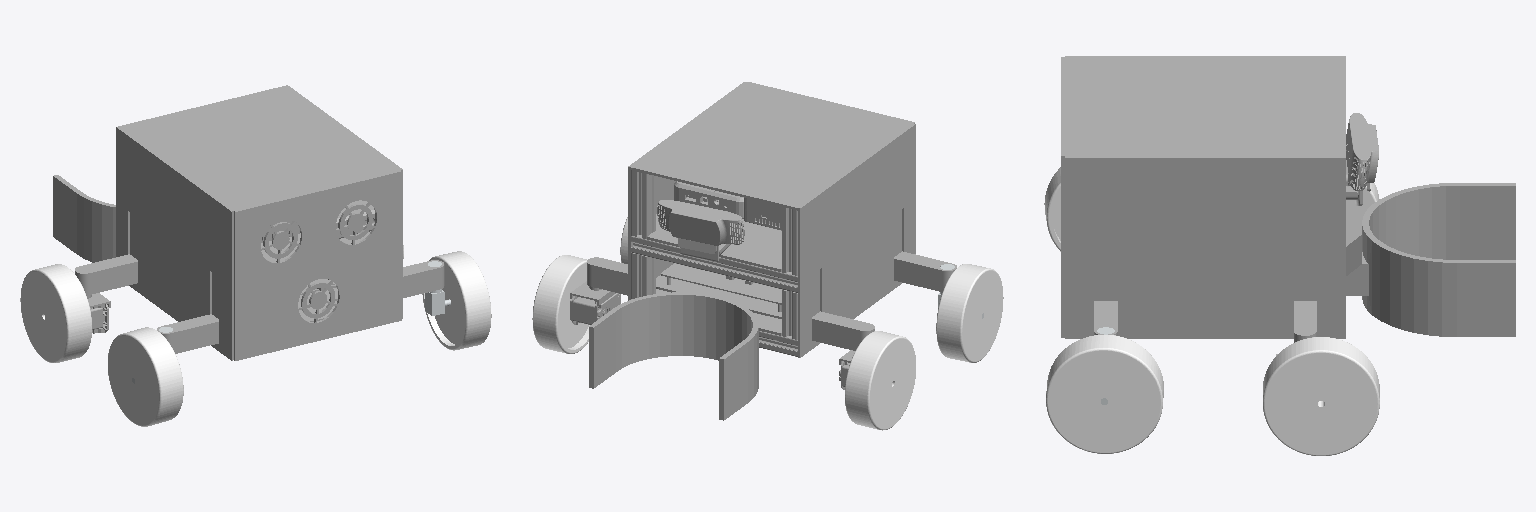
The robot description file, URDF, robot "new_model":
<?xml version="1.0" encoding="utf-8"?>
<!-- This URDF was automatically created by SolidWorks to URDF Exporter! Originally created by [author] ([email redacted]) 
     Commit Version: 1.5.1-0-g916b5db  Build Version: 1.5.7152.31018
     For more information, please see http://wiki.ros.org/sw_urdf_exporter -->
<robot
  name="new_model">
  <link
    name="base_link">
    <inertial>
      <origin
        xyz="-0.00122507959535201 -0.0132142522574721 0.158187880538494"
        rpy="0 0 0" />
      <mass
        value="5.04599768700966" />
      <inertia
        ixx="0.0199585188421208"
        ixy="8.49633695615799E-07"
        ixz="3.57924483879844E-07"
        iyy="0.0133780567917246"
        iyz="-8.69413175238509E-06"
        izz="0.0204011323429144" />
    </inertial>
    <visual>
      <origin
        xyz="0 0 0"
        rpy="0 0 0" />
      <geometry>
        <mesh
          filename="package://new_model/meshes/base_link.STL" />
      </geometry>
      <material
        name="">
        <color
          rgba="0.752941176470588 0.752941176470588 0.752941176470588 1" />
      </material>
    </visual>
    <collision>
      <origin
        xyz="0 0 0"
        rpy="0 0 0" />
      <geometry>
        <mesh
          filename="package://new_model/meshes/base_link.STL" />
      </geometry>
    </collision>
  </link>
  <link
    name="RFS">
    <inertial>
      <origin
        xyz="0.13547 0.086849 0.092683"
        rpy="0 0 0" />
      <mass
        value="0.26437" />
      <inertia
        ixx="3.2075E-05"
        ixy="-1.5645E-07"
        ixz="1.6485E-08"
        iyy="6.2207E-05"
        iyz="-2.9641E-09"
        izz="6.2915E-05" />
    </inertial>
    <visual>
      <origin
        xyz="0 0 0"
        rpy="0 0 0" />
      <geometry>
        <mesh
          filename="package://new_model/meshes/RFS.STL" />
      </geometry>
      <material
        name="">
        <color
          rgba="0.75294 0.75294 0.75294 1" />
      </material>
    </visual>
    <collision>
      <origin
        xyz="0 0 0"
        rpy="0 0 0" />
      <geometry>
        <mesh
          filename="package://new_model/meshes/RFS.STL" />
      </geometry>
    </collision>
  </link>
  <joint
    name="right_front_suspension"
    type="prismatic">
    <origin
      xyz="0 0 0"
      rpy="0 0 0" />
    <parent
      link="base_link" />
    <child
      link="RFS" />
    <axis
      xyz="0 0 1" />
    <limit
      lower="0"
      upper="0"
      effort="0"
      velocity="0" />
  </joint>
  <link
    name="RFW">
    <inertial>
      <origin
        xyz="0.18943 0.1001 0.062199"
        rpy="0 0 0" />
      <mass
        value="0.19359" />
      <inertia
        ixx="0.00025308"
        ixy="-5.171E-21"
        ixz="2.2481E-36"
        iyy="0.00013682"
        iyz="-4.286E-37"
        izz="0.00013682" />
    </inertial>
    <visual>
      <origin
        xyz="0 0 0"
        rpy="0 0 0" />
      <geometry>
        <mesh
          filename="package://new_model/meshes/RFW.STL" />
      </geometry>
      <material
        name="">
        <color
          rgba="1 1 1 1" />
      </material>
    </visual>
    <collision>
      <origin
        xyz="0 0 0"
        rpy="0 0 0" />
      <geometry>
        <mesh
          filename="package://new_model/meshes/RFW.STL" />
      </geometry>
    </collision>
  </link>
  <joint
    name="right_front_wheel"
    type="continuous">
    <origin
      xyz="0 0 0"
      rpy="0 0 0" />
    <parent
      link="RFS" />
    <child
      link="RFW" />
    <axis
      xyz="1 0 0" />
    <limit
      effort="3.1"
      velocity="7" />
  </joint>
  <link
    name="LFS">
    <inertial>
      <origin
        xyz="-0.13547 0.086849 0.092691"
        rpy="0 0 0" />
      <mass
        value="0.26437" />
      <inertia
        ixx="3.2075E-05"
        ixy="1.5645E-07"
        ixz="1.6485E-08"
        iyy="6.2207E-05"
        iyz="2.9641E-09"
        izz="6.2915E-05" />
    </inertial>
    <visual>
      <origin
        xyz="0 0 0"
        rpy="0 0 0" />
      <geometry>
        <mesh
          filename="package://new_model/meshes/LFS.STL" />
      </geometry>
      <material
        name="">
        <color
          rgba="0.75294 0.75294 0.75294 1" />
      </material>
    </visual>
    <collision>
      <origin
        xyz="0 0 0"
        rpy="0 0 0" />
      <geometry>
        <mesh
          filename="package://new_model/meshes/LFS.STL" />
      </geometry>
    </collision>
  </link>
  <joint
    name="left_front_suspension"
    type="prismatic">
    <origin
      xyz="0 0 0"
      rpy="0 0 0" />
    <parent
      link="base_link" />
    <child
      link="LFS" />
    <axis
      xyz="0 0 1" />
    <limit
      lower="0"
      upper="0"
      effort="0"
      velocity="0" />
  </joint>
  <link
    name="LFW">
    <inertial>
      <origin
        xyz="-0.18943 0.1001 0.062197"
        rpy="0 0 0" />
      <mass
        value="0.19359" />
      <inertia
        ixx="0.00025308"
        ixy="-3.2321E-19"
        ixz="8.5767E-19"
        iyy="0.00013682"
        iyz="2.1137E-20"
        izz="0.00013682" />
    </inertial>
    <visual>
      <origin
        xyz="0 0 0"
        rpy="0 0 0" />
      <geometry>
        <mesh
          filename="package://new_model/meshes/LFW.STL" />
      </geometry>
      <material
        name="">
        <color
          rgba="1 1 1 1" />
      </material>
    </visual>
    <collision>
      <origin
        xyz="0 0 0"
        rpy="0 0 0" />
      <geometry>
        <mesh
          filename="package://new_model/meshes/LFW.STL" />
      </geometry>
    </collision>
  </link>
  <joint
    name="left_front_wheel"
    type="continuous">
    <origin
      xyz="0 0 0"
      rpy="0 0 0" />
    <parent
      link="LFS" />
    <child
      link="LFW" />
    <axis
      xyz="1 0 0" />
    <limit
      effort="3.1"
      velocity="7" />
  </joint>
  <link
    name="RBS">
    <inertial>
      <origin
        xyz="0.12676 -0.083501 0.099498"
        rpy="0 0 0" />
      <mass
        value="0.19701" />
      <inertia
        ixx="1.688E-05"
        ixy="2.2931E-20"
        ixz="-2.235E-19"
        iyy="5.0552E-05"
        iyz="-2.687E-21"
        izz="4.6911E-05" />
    </inertial>
    <visual>
      <origin
        xyz="0 0 0"
        rpy="0 0 0" />
      <geometry>
        <mesh
          filename="package://new_model/meshes/RBS.STL" />
      </geometry>
      <material
        name="">
        <color
          rgba="0.75294 0.75294 0.75294 1" />
      </material>
    </visual>
    <collision>
      <origin
        xyz="0 0 0"
        rpy="0 0 0" />
      <geometry>
        <mesh
          filename="package://new_model/meshes/RBS.STL" />
      </geometry>
    </collision>
  </link>
  <joint
    name="right_back_suspension"
    type="prismatic">
    <origin
      xyz="0 0 0"
      rpy="0 0 0" />
    <parent
      link="base_link" />
    <child
      link="RBS" />
    <axis
      xyz="0 0 1" />
    <limit
      lower="0"
      upper="0"
      effort="0"
      velocity="0" />
  </joint>
  <link
    name="RBC">
    <inertial>
      <origin
        xyz="0.16321 -0.083575 0.081145"
        rpy="0 0 0" />
      <mass
        value="0.03248" />
      <inertia
        ixx="8.8659E-06"
        ixy="6.1151E-08"
        ixz="1.2061E-06"
        iyy="1.0703E-05"
        iyz="-4.0099E-08"
        izz="2.8292E-06" />
    </inertial>
    <visual>
      <origin
        xyz="0 0 0"
        rpy="0 0 0" />
      <geometry>
        <mesh
          filename="package://new_model/meshes/RBC.STL" />
      </geometry>
      <material
        name="">
        <color
          rgba="0.89804 0.91765 0.92941 1" />
      </material>
    </visual>
    <collision>
      <origin
        xyz="0 0 0"
        rpy="0 0 0" />
      <geometry>
        <mesh
          filename="package://new_model/meshes/RBC.STL" />
      </geometry>
    </collision>
  </link>
  <joint
    name="rihgt_back_castle"
    type="continuous">
    <origin
      xyz="0 0 0"
      rpy="0 0 0" />
    <parent
      link="RBS" />
    <child
      link="RBC" />
    <axis
      xyz="0 0 1" />
  </joint>
  <link
    name="RBW">
    <inertial>
      <origin
        xyz="0.18942 -0.084446 0.064353"
        rpy="0 0 0" />
      <mass
        value="0.19359" />
      <inertia
        ixx="0.00025295"
        ixy="-3.861E-06"
        ixz="-2.8371E-33"
        iyy="0.00013695"
        iyz="-1.9437E-32"
        izz="0.00013682" />
    </inertial>
    <visual>
      <origin
        xyz="0 0 0"
        rpy="0 0 0" />
      <geometry>
        <mesh
          filename="package://new_model/meshes/RBW.STL" />
      </geometry>
      <material
        name="">
        <color
          rgba="1 1 1 1" />
      </material>
    </visual>
    <collision>
      <origin
        xyz="0 0 0"
        rpy="0 0 0" />
      <geometry>
        <mesh
          filename="package://new_model/meshes/RBW.STL" />
      </geometry>
    </collision>
  </link>
  <joint
    name="right_back_wheel"
    type="continuous">
    <origin
      xyz="0 0 0"
      rpy="0 0 0" />
    <parent
      link="RBC" />
    <child
      link="RBW" />
    <axis
      xyz="0.99945 -0.033227 0" />
    <limit
      effort="3.1"
      velocity="7" />
  </joint>
  <link
    name="LBS">
    <inertial>
      <origin
        xyz="-0.12676 -0.083501 0.099498"
        rpy="0 0 0" />
      <mass
        value="0.19701" />
      <inertia
        ixx="1.688E-05"
        ixy="1.2258E-20"
        ixz="-2.3064E-19"
        iyy="5.0552E-05"
        iyz="2.9288E-21"
        izz="4.6911E-05" />
    </inertial>
    <visual>
      <origin
        xyz="0 0 0"
        rpy="0 0 0" />
      <geometry>
        <mesh
          filename="package://new_model/meshes/LBS.STL" />
      </geometry>
      <material
        name="">
        <color
          rgba="0.75294 0.75294 0.75294 1" />
      </material>
    </visual>
    <collision>
      <origin
        xyz="0 0 0"
        rpy="0 0 0" />
      <geometry>
        <mesh
          filename="package://new_model/meshes/LBS.STL" />
      </geometry>
    </collision>
  </link>
  <joint
    name="left_back_suspension"
    type="prismatic">
    <origin
      xyz="0 0 0"
      rpy="0 0 0" />
    <parent
      link="base_link" />
    <child
      link="LBS" />
    <axis
      xyz="0 0 1" />
    <limit
      lower="0"
      upper="0"
      effort="0"
      velocity="0" />
  </joint>
  <link
    name="LBC">
    <inertial>
      <origin
        xyz="-0.16321 -0.083649 0.081145"
        rpy="0 0 0" />
      <mass
        value="0.03248" />
      <inertia
        ixx="8.8721E-06"
        ixy="-1.2291E-07"
        ixz="-1.2041E-06"
        iyy="1.0697E-05"
        iyz="-8.0732E-08"
        izz="2.8292E-06" />
    </inertial>
    <visual>
      <origin
        xyz="0 0 0"
        rpy="0 0 0" />
      <geometry>
        <mesh
          filename="package://new_model/meshes/LBC.STL" />
      </geometry>
      <material
        name="">
        <color
          rgba="0.89804 0.91765 0.92941 1" />
      </material>
    </visual>
    <collision>
      <origin
        xyz="0 0 0"
        rpy="0 0 0" />
      <geometry>
        <mesh
          filename="package://new_model/meshes/LBC.STL" />
      </geometry>
    </collision>
  </link>
  <joint
    name="left_back_castle"
    type="continuous">
    <origin
      xyz="0 0 0"
      rpy="0 0 0" />
    <parent
      link="LBS" />
    <child
      link="LBC" />
    <axis
      xyz="0 0 1" />
  </joint>
  <link
    name="LBW">
    <inertial>
      <origin
        xyz="-0.18937 -0.085403 0.064353"
        rpy="0 0 0" />
      <mass
        value="0.19359" />
      <inertia
        ixx="0.00025256"
        ixy="7.7603E-06"
        ixz="8.8996E-19"
        iyy="0.00013734"
        iyz="6.1633E-20"
        izz="0.00013682" />
    </inertial>
    <visual>
      <origin
        xyz="0 0 0"
        rpy="0 0 0" />
      <geometry>
        <mesh
          filename="package://new_model/meshes/LBW.STL" />
      </geometry>
      <material
        name="">
        <color
          rgba="1 1 1 1" />
      </material>
    </visual>
    <collision>
      <origin
        xyz="0 0 0"
        rpy="0 0 0" />
      <geometry>
        <mesh
          filename="package://new_model/meshes/LBW.STL" />
      </geometry>
    </collision>
  </link>
  <joint
    name="left_back_wheel"
    type="continuous">
    <origin
      xyz="0 0 0"
      rpy="0 0 0" />
    <parent
      link="LBC" />
    <child
      link="LBW" />
    <axis
      xyz="0.99776 0.066898 0" />
    <limit
      effort="3.1"
      velocity="7" />
  </joint>
  <link
    name="webcam">
    <inertial>
      <origin
        xyz="0.010772 0.12237 0.19826"
        rpy="0 0 0" />
      <mass
        value="0.084224" />
      <inertia
        ixx="1.4022E-05"
        ixy="-9.3308E-07"
        ixz="2.9326E-08"
        iyy="2.9762E-05"
        iyz="-4.8403E-07"
        izz="3.7024E-05" />
    </inertial>
    <visual>
      <origin
        xyz="0 0 0"
        rpy="0 0 0" />
      <geometry>
        <mesh
          filename="package://new_model/meshes/webcam.STL" />
      </geometry>
      <material
        name="">
        <color
          rgba="0.75294 0.75294 0.75294 1" />
      </material>
    </visual>
    <collision>
      <origin
        xyz="0 0 0"
        rpy="0 0 0" />
      <geometry>
        <mesh
          filename="package://new_model/meshes/webcam.STL" />
      </geometry>
    </collision>
  </link>
  <joint
    name="webcam"
    type="fixed">
    <origin
      xyz="0 0 0"
      rpy="0 0 0" />
    <parent
      link="base_link" />
    <child
      link="webcam" />
    <axis
      xyz="0 0 0" />
  </joint>
  <link
    name="lidar">
    <inertial>
      <origin
        xyz="-0.0012251 -0.013214 0.15819"
        rpy="0 0 0" />
      <mass
        value="5.046" />
      <inertia
        ixx="0.019959"
        ixy="8.4963E-07"
        ixz="3.5792E-07"
        iyy="0.013378"
        iyz="-8.6941E-06"
        izz="0.020401" />
    </inertial>
    <visual>
      <origin
        xyz="0 0 0"
        rpy="0 0 0" />
      <geometry>
        <mesh
          filename="package://new_model/meshes/lidar.STL" />
      </geometry>
      <material
        name="">
        <color
          rgba="0.75294 0.75294 0.75294 1" />
      </material>
    </visual>
    <collision>
      <origin
        xyz="0 0 0"
        rpy="0 0 0" />
      <geometry>
        <mesh
          filename="package://new_model/meshes/lidar.STL" />
      </geometry>
    </collision>
  </link>
  <joint
    name="lidar"
    type="prismatic">
    <origin
      xyz="0 0 0"
      rpy="0 0 0" />
    <parent
      link="base_link" />
    <child
      link="lidar" />
    <axis
      xyz="1 0 0" />
    <limit
      lower="0"
      upper="0"
      effort="0"
      velocity="0" />
  </joint>
</robot>

--- Render facts (derived) ---
3 views of the same robot in one strip: view 1: azimuth 30°, elevation 25°; view 2: azimuth 150°, elevation 25°; view 3: azimuth 270°, elevation 25° (orthographic).
Model new_model with 13 links and 12 joints (6 continuous, 5 prismatic, 1 fixed), rooted at base_link, posed every joint at zero.
Links seen in each view (by area): view 1: base_link, LBW, LFW, RBW, LFS, LBS, RBS, RBC; view 2: base_link, LFW, LBW, RFW, webcam, RFS, LFS, LBS; view 3: base_link, RFW, RBW, webcam, LBW, LFW, RFS, RBS.
Link boxes in pixels (bbox=[...]): base_link: bbox=[53, 85, 402, 360]; LBW: bbox=[108, 327, 183, 426]; LFW: bbox=[20, 264, 91, 362]; RBW: bbox=[422, 251, 491, 350]; LFS: bbox=[75, 254, 137, 333]; LBS: bbox=[157, 314, 218, 353]; RBS: bbox=[403, 260, 444, 297]; RBC: bbox=[425, 261, 450, 315]; base_link: bbox=[589, 82, 915, 420]; LFW: bbox=[845, 331, 915, 430]; LBW: bbox=[936, 264, 1003, 362]; RFW: bbox=[532, 255, 589, 353]; webcam: bbox=[657, 200, 744, 261]; RFS: bbox=[570, 257, 627, 324]; LFS: bbox=[812, 311, 874, 389]; LBS: bbox=[894, 251, 956, 291]; base_link: bbox=[1061, 56, 1515, 338]; RFW: bbox=[1263, 337, 1379, 455]; RBW: bbox=[1046, 335, 1163, 453]; webcam: bbox=[1346, 113, 1378, 205]; LBW: bbox=[1044, 167, 1060, 251]; LFW: bbox=[1346, 183, 1379, 246]; RFS: bbox=[1276, 301, 1316, 355]; RBS: bbox=[1094, 301, 1117, 335].
Bounding box of the posed robot: 0.4082 × 0.4018 × 0.2358 m (x, y, z).
12 mesh visuals loaded from 13 distinct referenced files (12 binary STL); not drawn: 1 (reference not matched to a file when rendering).
